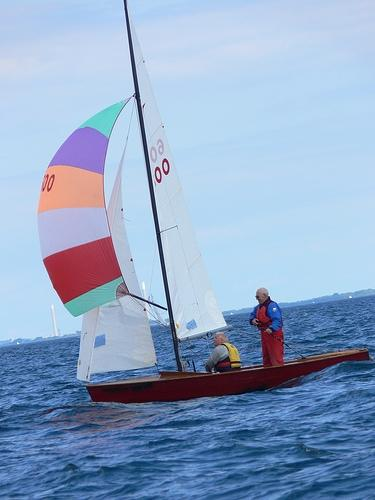Ship: (40, 1, 371, 401)
